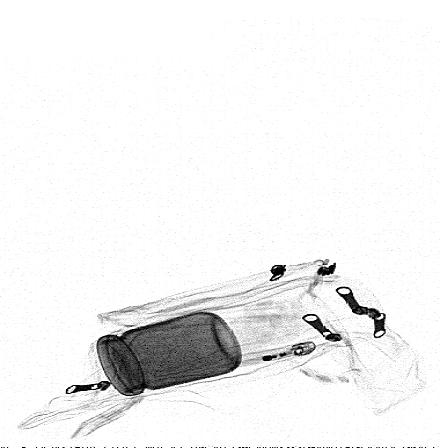Lighter: (226, 340, 318, 367)
